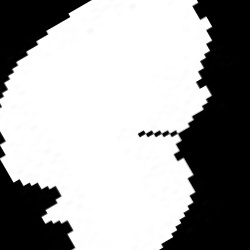spot: (0, 1, 213, 248)
